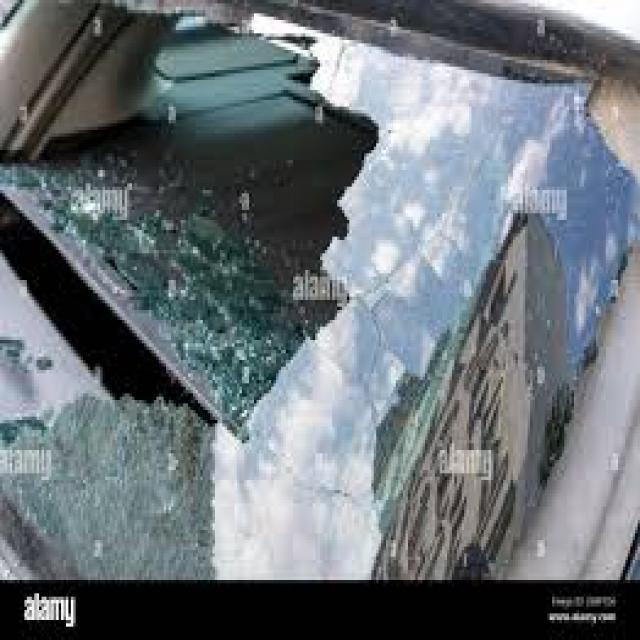damaged-rear-window: (0, 0, 640, 576)
